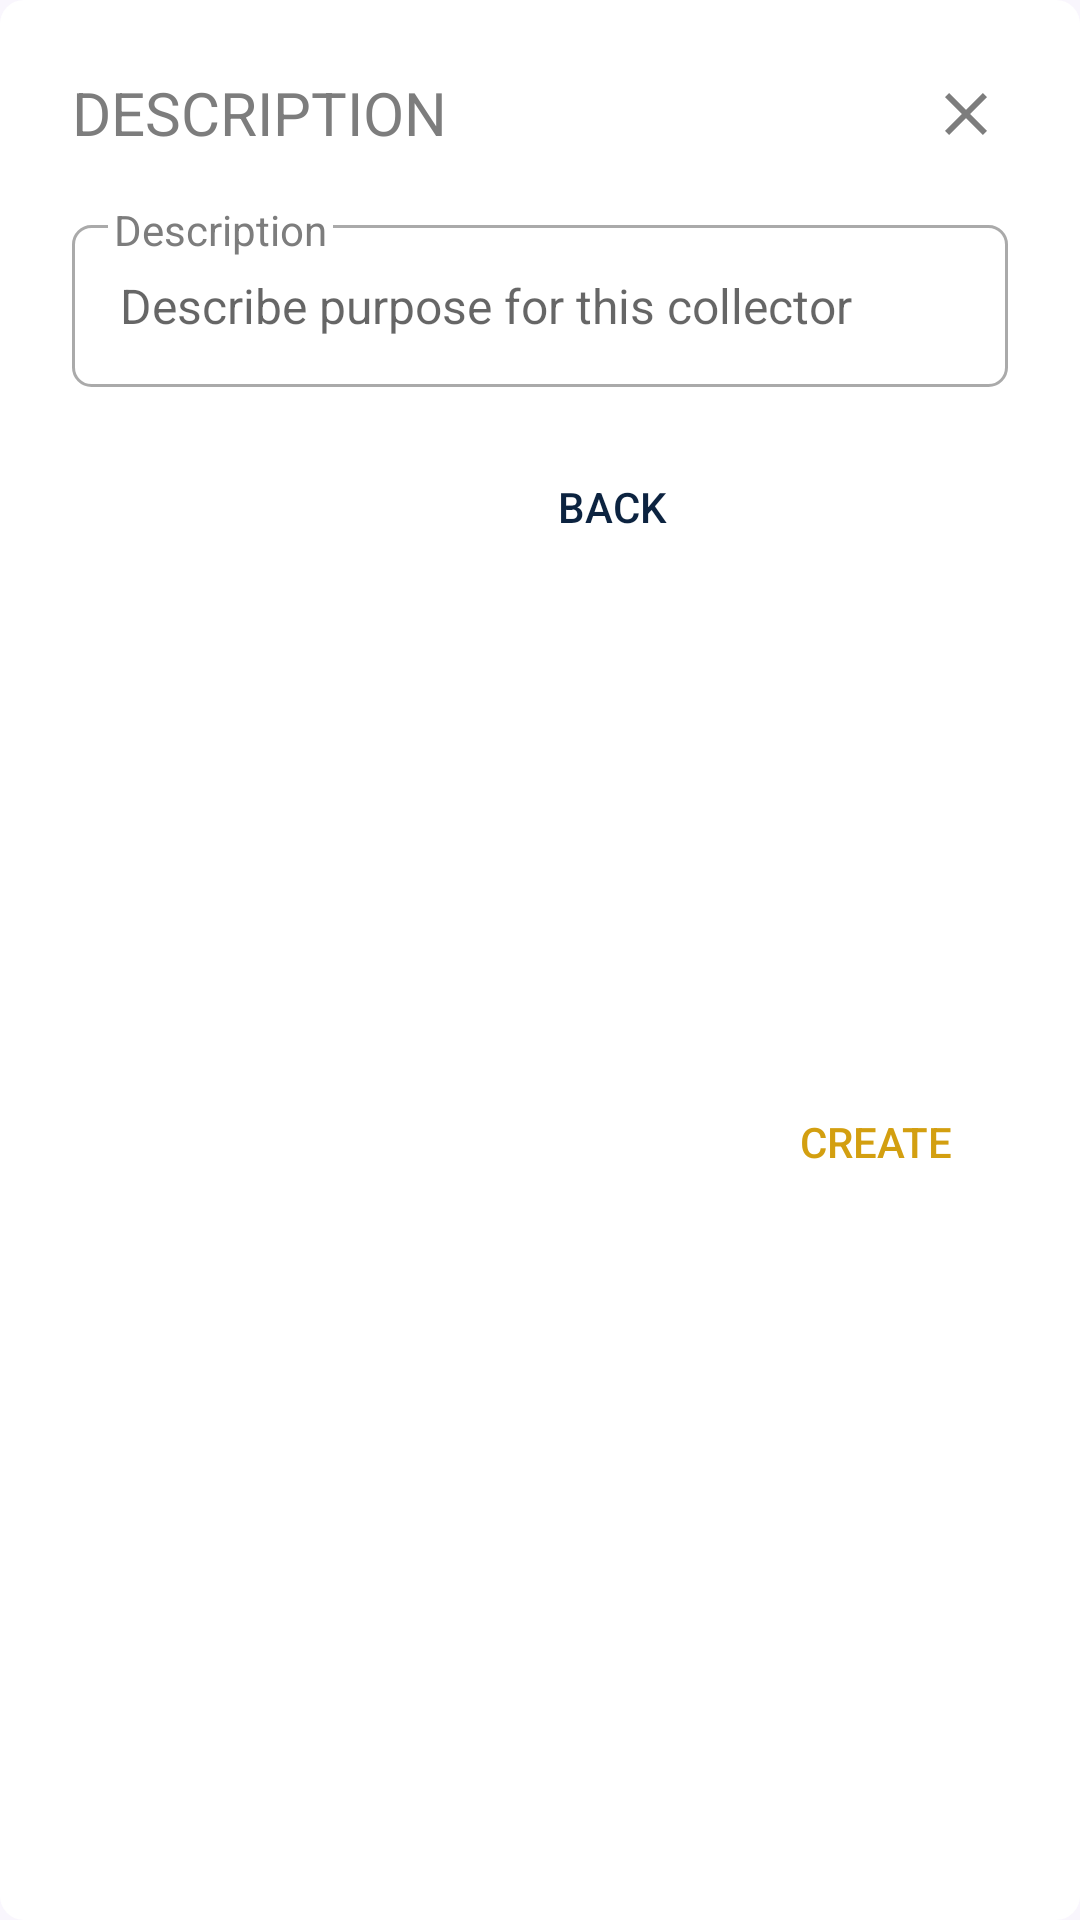

Where icons sit on this 1080×1920 app screen, as {"left": x1, "top": y1, "right": x2, "bottom": y2}:
close: {"left": 945, "top": 93, "right": 987, "bottom": 135}
